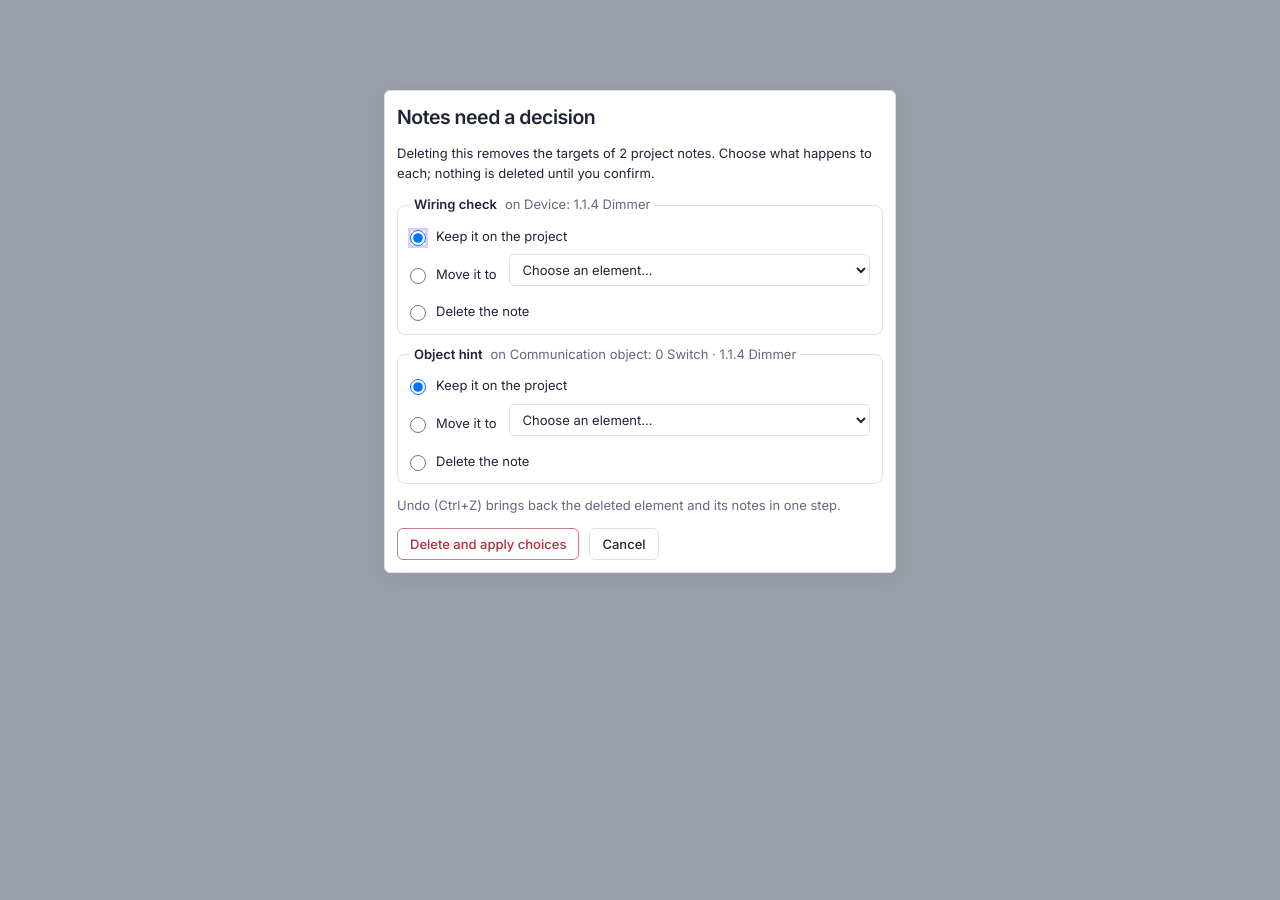
it: a refused choice keeps the dialog open with the server's reason
Click the button "Delete and apply choices": (488, 544) [397,528,579,560]
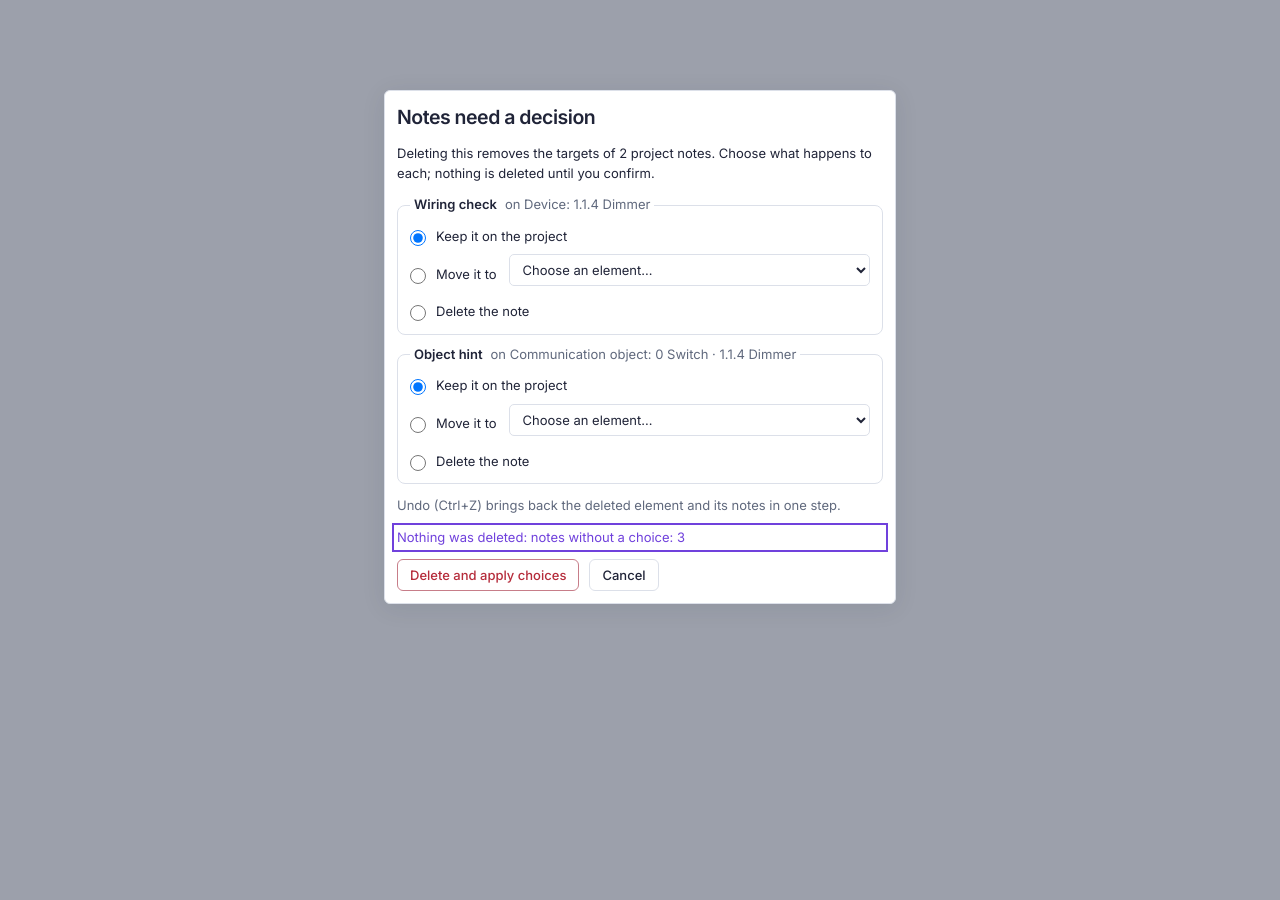
Expected: the button "Delete and apply choices" is enabled, [397,559,579,591]
Result: the message "Nothing was deleted: notes without a choice: 3" is shown at [397,529,685,545]
